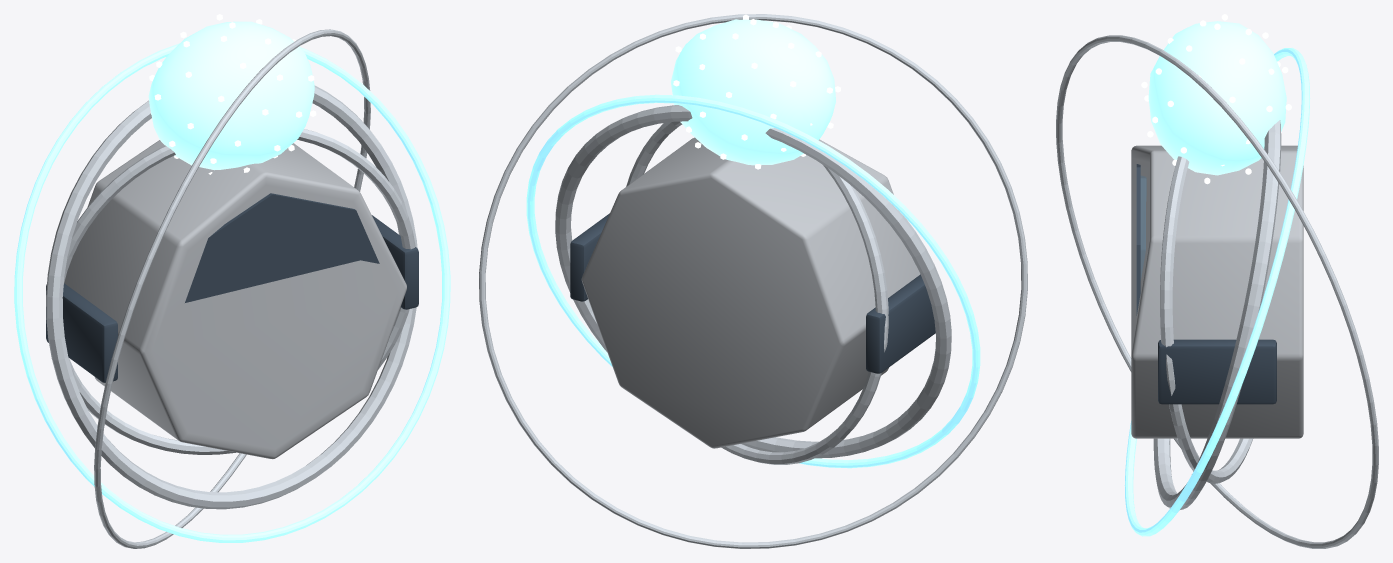
File: fm-core.glb
The picture shows the model from 3 angles, left to right: view 1: azimuth 30°, elevation 25°; view 2: azimuth 150°, elevation 25°; view 3: azimuth 270°, elevation 25°; orthographic projection. The views are drawn at different scales.
Visible parts, largest first — view 1: Chassis, Brain, Ring_0, InnerFrame, Ring_1, Ring_2, Ring_3, Strut_-1, Strut_1, NeuralNodes; view 2: Chassis, Brain, Ring_0, Ring_3, Ring_1, Ring_2, Strut_-1, Strut_1, NeuralNodes; view 3: Chassis, Brain, Ring_3, Ring_0, Strut_1, Ring_1, Ring_2, NeuralNodes, InnerFrame, GlassPanel.
Part boxes in pixels (x1,y1,x2,y2): Chassis: (64,140,406,459); Brain: (148,21,314,170); Ring_0: (46,85,417,509); InnerFrame: (185,193,379,302); Ring_1: (14,43,450,542); Ring_2: (63,129,415,454); Ring_3: (94,29,370,548); Strut_-1: (46,283,117,382); Strut_1: (372,215,418,309); NeuralNodes: (149,14,316,174); Chassis: (581,137,920,448); Brain: (671,19,835,165); Ring_0: (555,105,951,458); Ring_3: (479,14,1027,548); Ring_1: (526,94,980,468); Ring_2: (626,121,888,464); Strut_-1: (866,274,935,373); Strut_1: (570,213,609,301); NeuralNodes: (672,14,840,169); Chassis: (1131,145,1303,438); Brain: (1148,21,1286,175); Ring_3: (1056,35,1378,548); Ring_0: (1153,120,1281,509); Strut_1: (1158,339,1276,404); Ring_1: (1124,47,1310,536); Ring_2: (1160,156,1252,483); NeuralNodes: (1141,14,1291,184); InnerFrame: (1136,164,1140,315); GlassPanel: (1141,176,1146,276).
Bounding box in the file's own units: 3.86 × 4.32 × 2.44.
